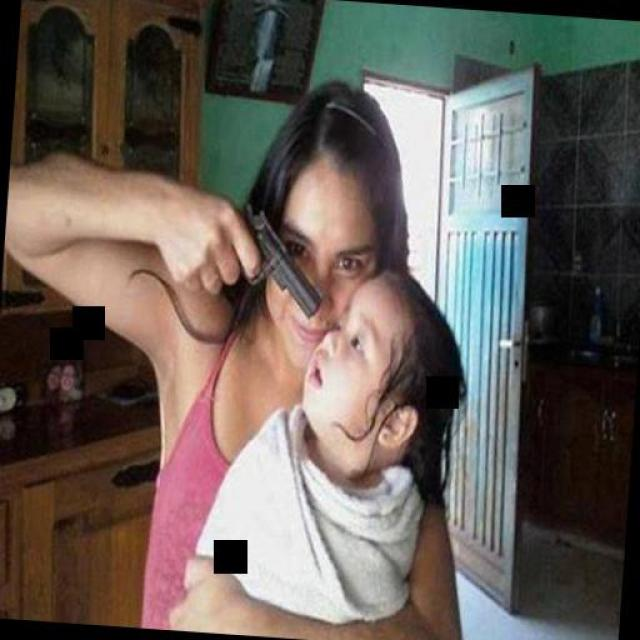gun: (191, 195, 335, 340)
